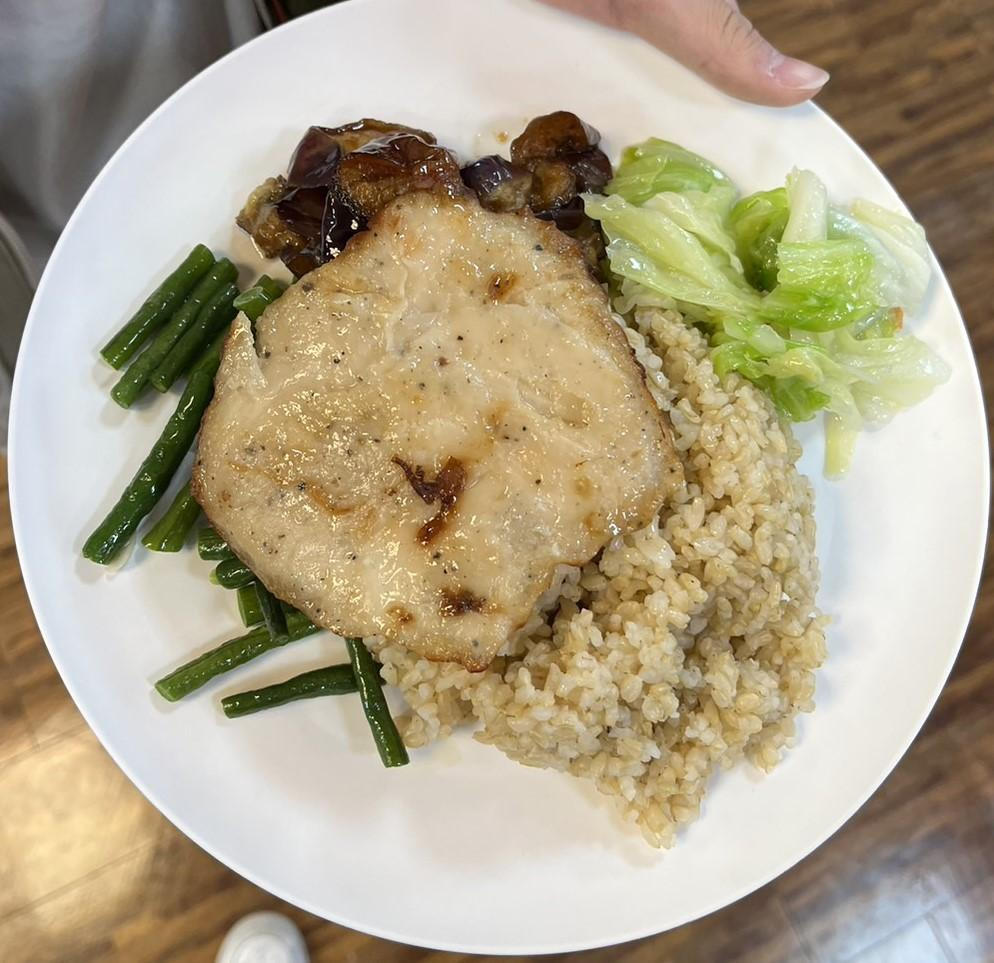big fried chicken leg: (0, 4, 994, 962)
box: (417, 302, 822, 844)
braised fish fillet: (88, 243, 417, 772), (600, 130, 942, 426), (244, 108, 621, 270)
braised pork: (194, 188, 683, 665)
